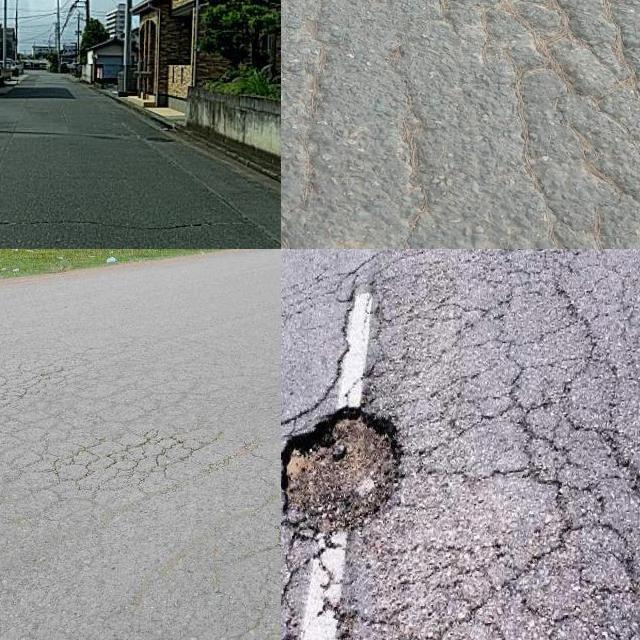Lubang: (281, 397, 403, 543)
Melintang: (0, 205, 265, 243)
Retak Buaya: (281, 249, 640, 640), (436, 0, 640, 249), (38, 430, 197, 503), (0, 341, 62, 426)
